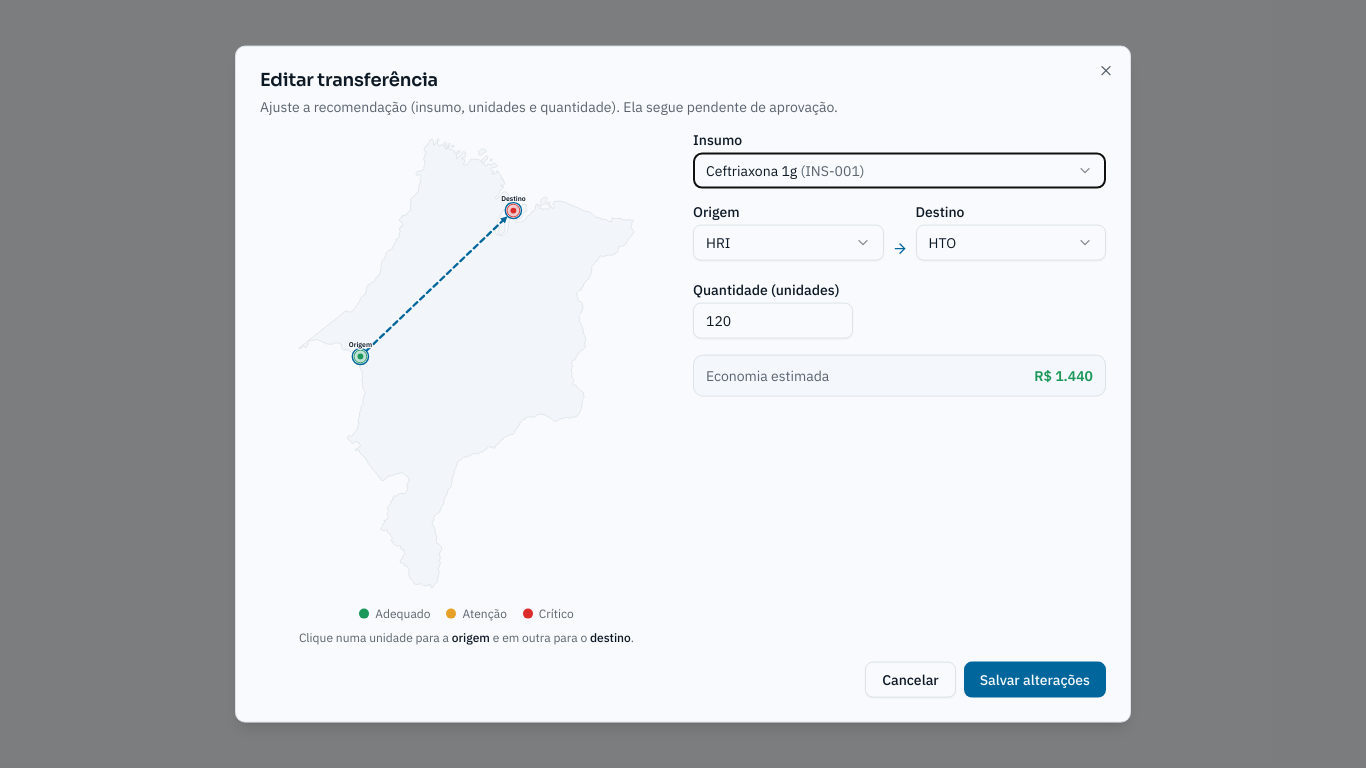
Test: TransferenciaFormDialog › edição salva a nova quantidade e confirma com toast
Replace the text in the number field labelled "Quantidade (unidades)" with "200" at coordinates (773, 321), box [693, 303, 853, 339]
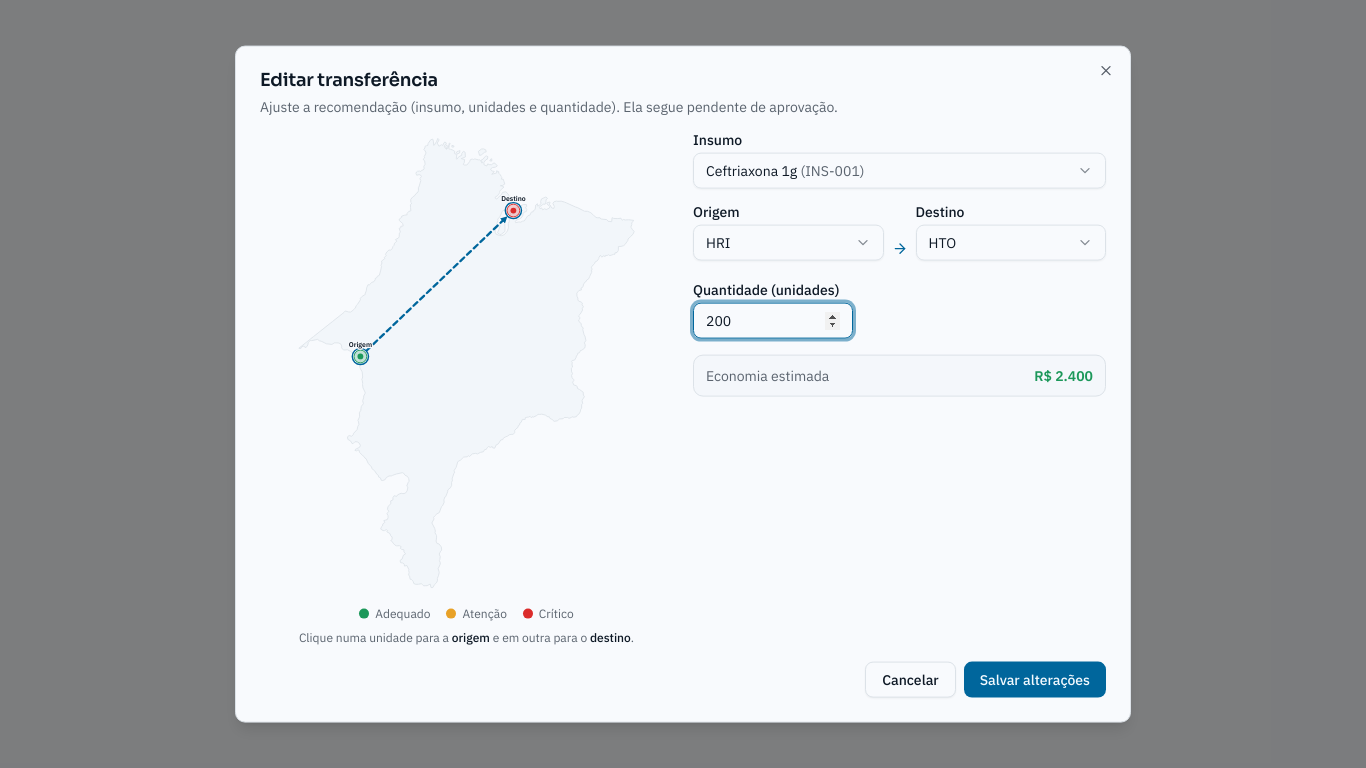
Click the button "Salvar alterações" at coordinates (1035, 679), box [964, 661, 1106, 697]
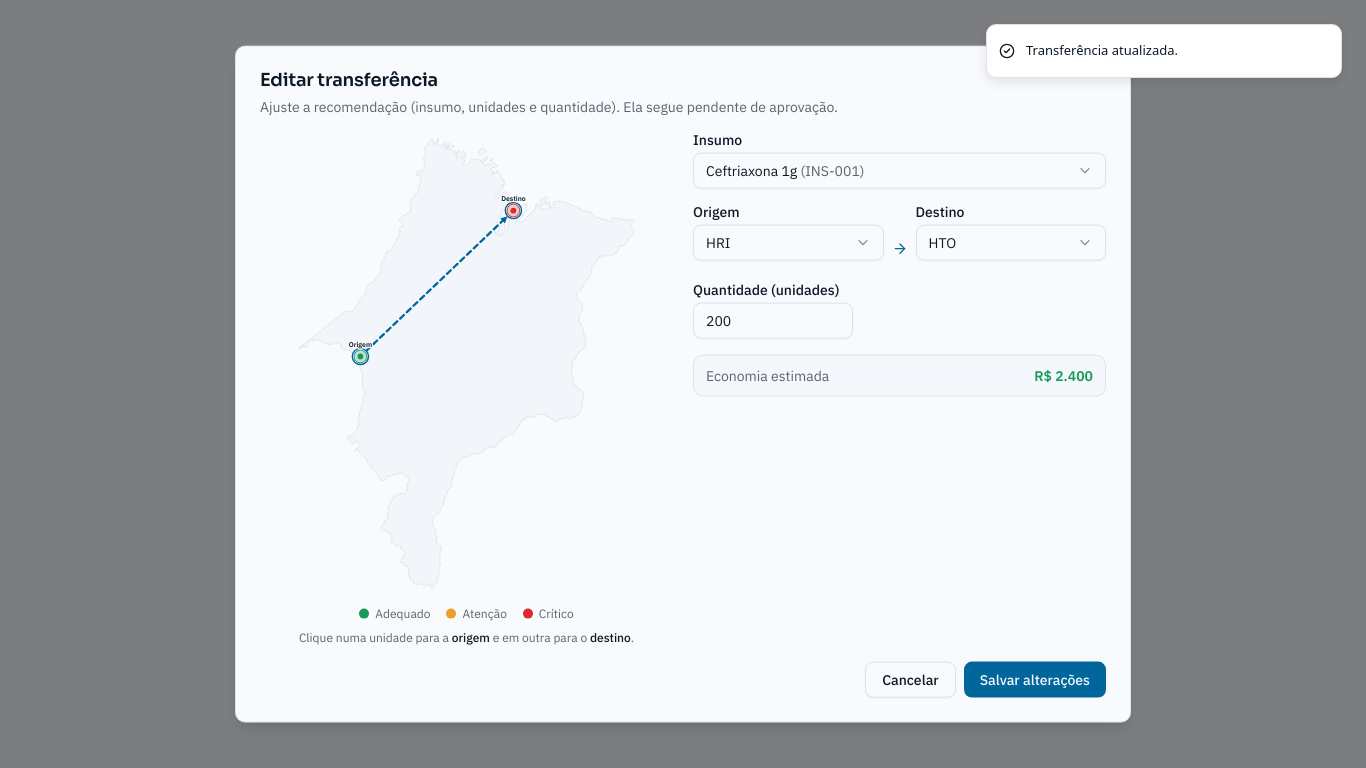
Now the text "Transferência atualizada." is shown, box [1026, 41, 1178, 60]
